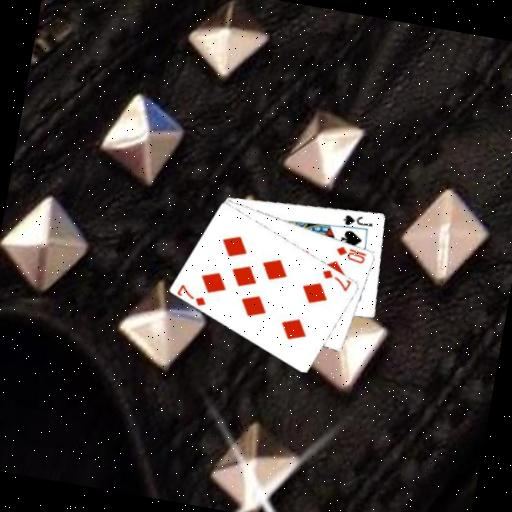10D: (331, 242, 369, 266)
7D: (316, 265, 354, 294), (173, 280, 210, 309)
JS: (339, 209, 375, 230)
